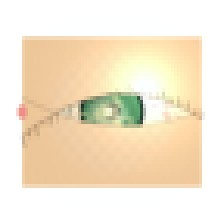corneal_ulcer: (86, 98, 128, 131)
